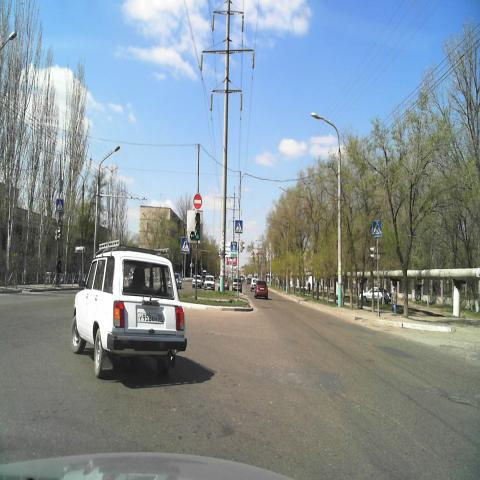3_1: (193, 193, 202, 210)
5_19_1: (180, 236, 190, 253), (372, 221, 382, 236), (235, 220, 242, 232)
